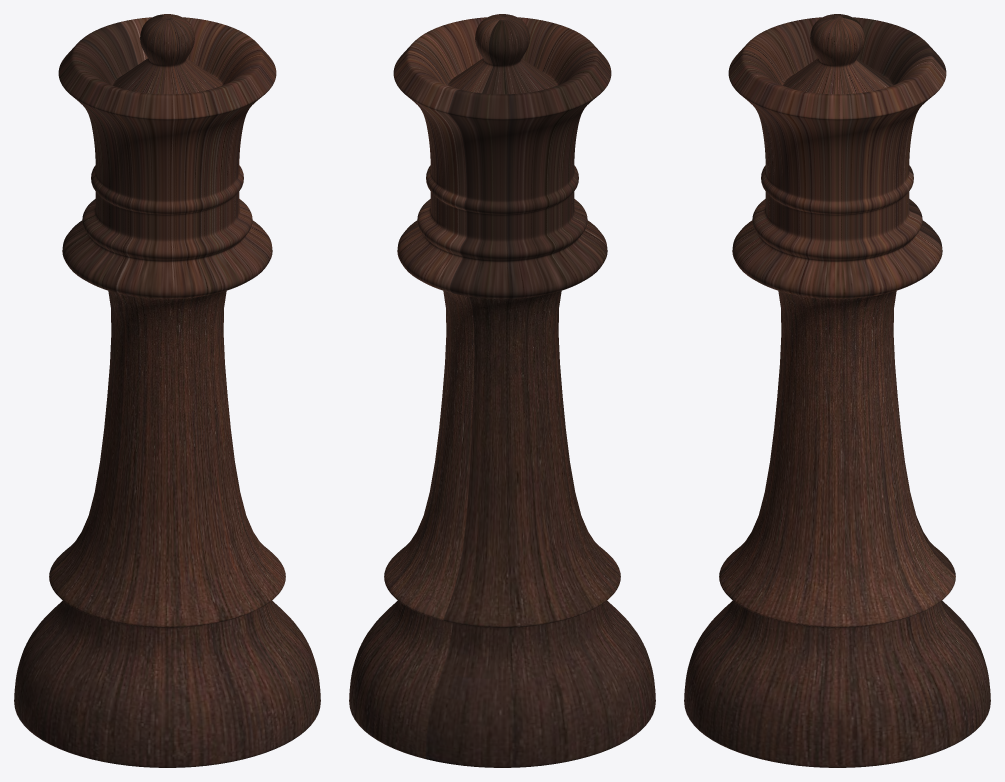
File: BLACK_QUEEN.glb
The picture shows the model from 3 angles, left to right: view 1: azimuth 30°, elevation 25°; view 2: azimuth 150°, elevation 25°; view 3: azimuth 270°, elevation 25°; orthographic projection.
Visible parts, largest first — view 1: Cylinder004; view 2: Cylinder004; view 3: Cylinder004.
Part boxes in pixels (left/top/right/bottom): Cylinder004: left=14, top=14, right=320, bottom=767; Cylinder004: left=349, top=14, right=655, bottom=767; Cylinder004: left=684, top=14, right=990, bottom=767.
Size of the model in its own units: 0.6752 by 1.67 by 0.6752.
1 material, 1 textured.
